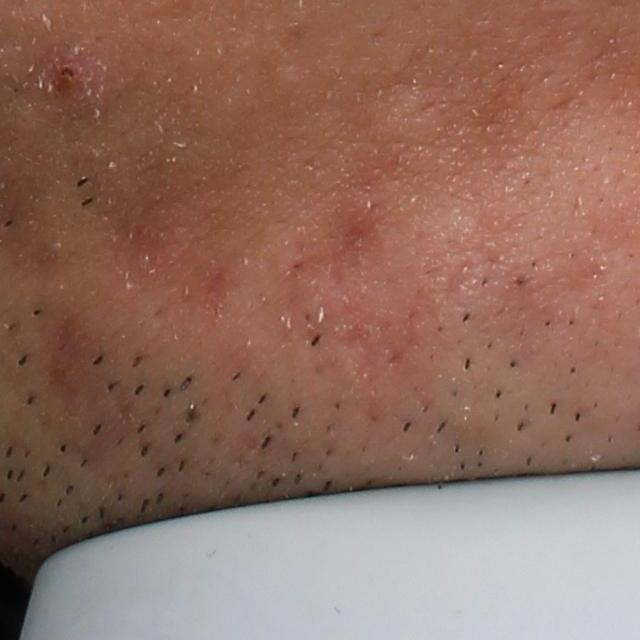hypertrophic_scar: (370, 88, 450, 157)
papule: (37, 36, 95, 103)
